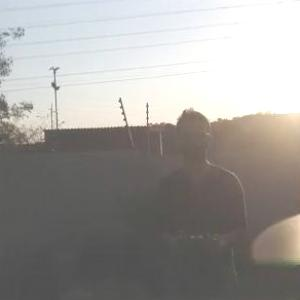follow: (151, 104, 253, 299)
